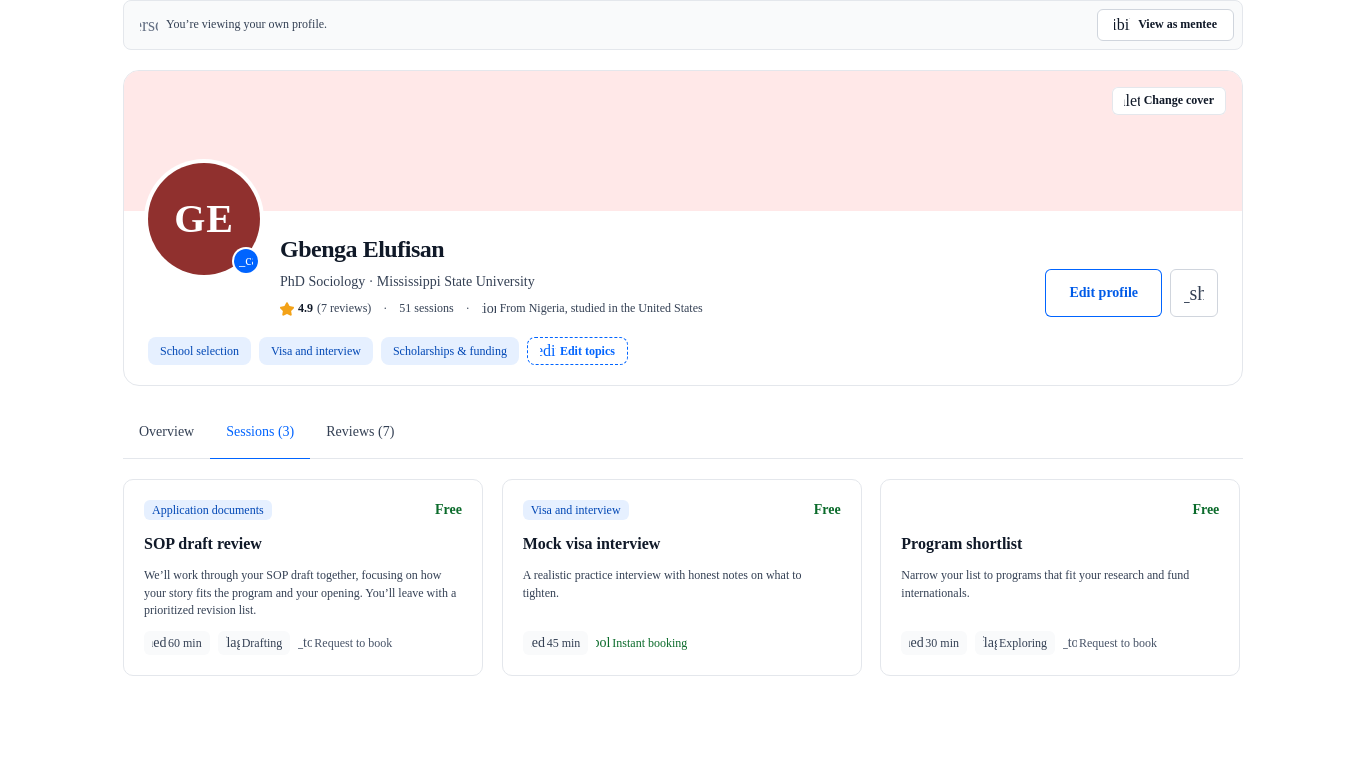
MentorProfileScreen — "View as mentee" › the Sessions tab: Book drawn but off
Check: the button "Book session" is not shown
Click the button "visibility View as mentee".
click(1166, 25)  # box [1097,9,1234,41]
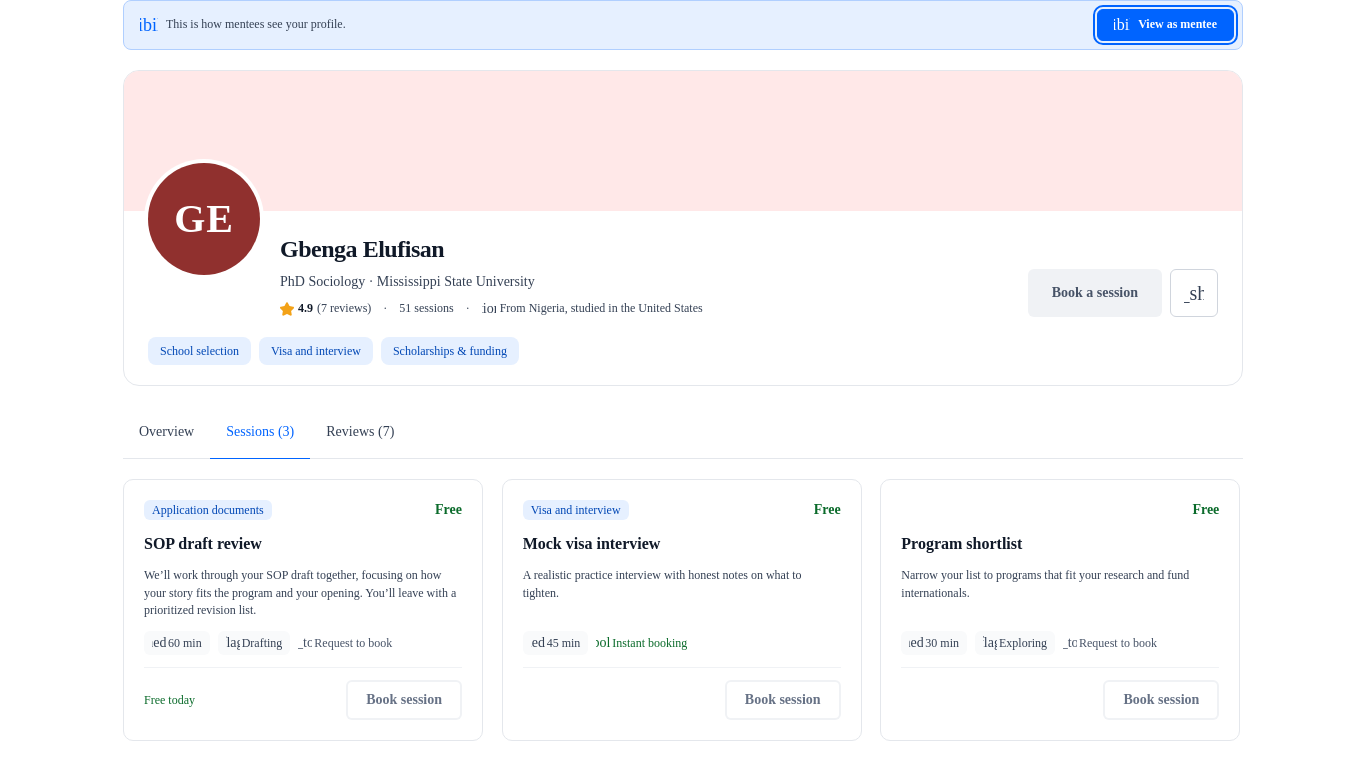
Check: the button "Book session" next to "Free today" is disabled, box [346,680,462,720]
Check: the button "Book session" below "Mock visa interview" is disabled, box [725,680,841,720]
Check: the button "Book session" below "Program shortlist" is disabled, box [1104,680,1219,720]
